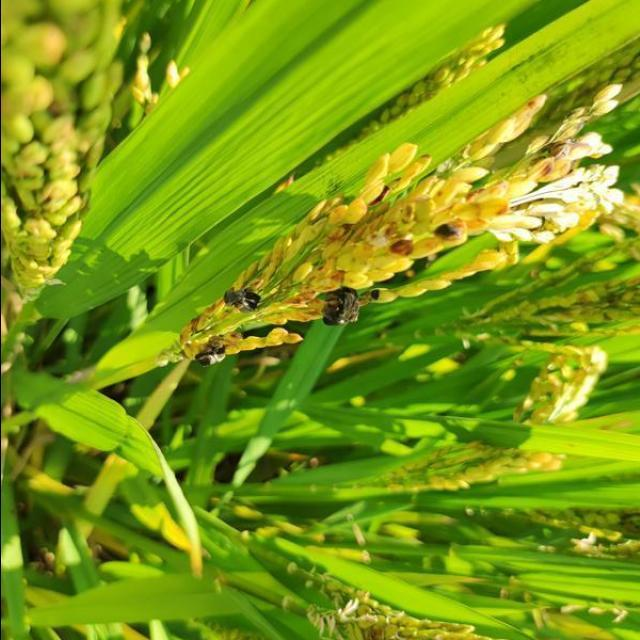Leaf_Scald: (320, 286, 362, 330), (224, 282, 262, 316), (194, 334, 229, 368)
